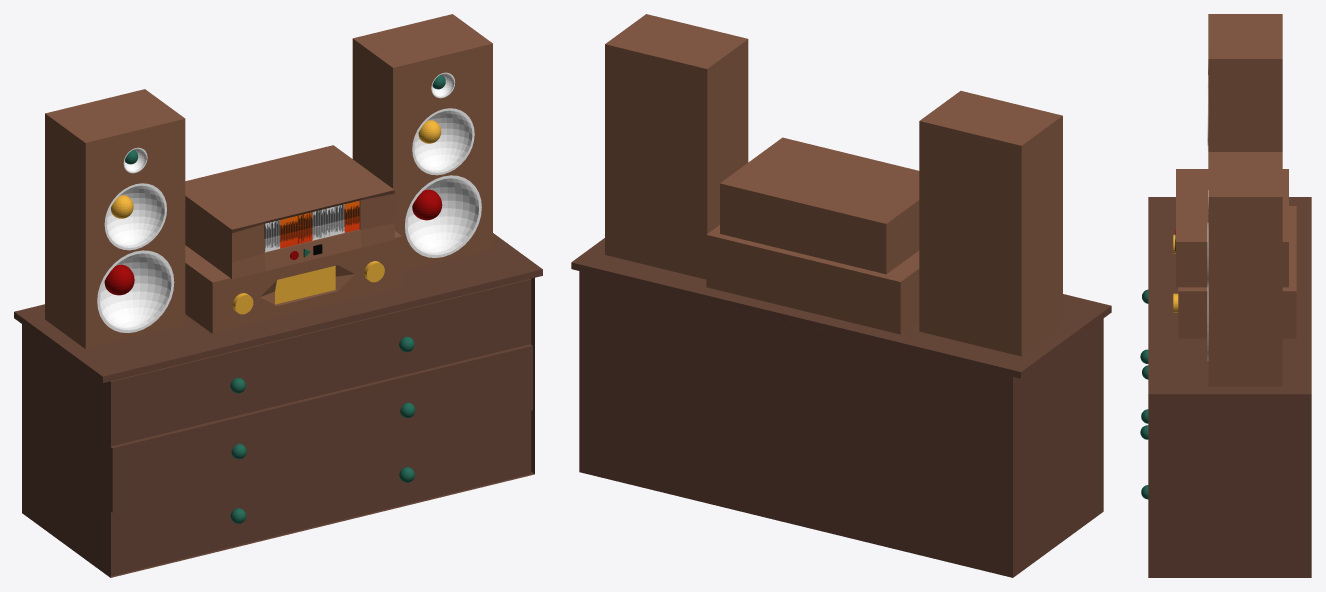
Rendered from SoundSystem.gltf.
3 renders of one model, left to right at view 1: azimuth 30°, elevation 25°; view 2: azimuth 150°, elevation 25°; view 3: azimuth 270°, elevation 25°, orthographic. The views are drawn at different scales.
Parts seen in each view (by area): view 1: Soundsystem; view 2: Soundsystem; view 3: Soundsystem.
Boxes of the visible parts, left/top/right/bottom form: Soundsystem: left=14, top=14, right=542, bottom=577; Soundsystem: left=571, top=14, right=1111, bottom=577; Soundsystem: left=1140, top=14, right=1311, bottom=577.
Bounding box in the file's own units: 8.69 × 7.73 × 3.18.
9 materials, 1 textured.
